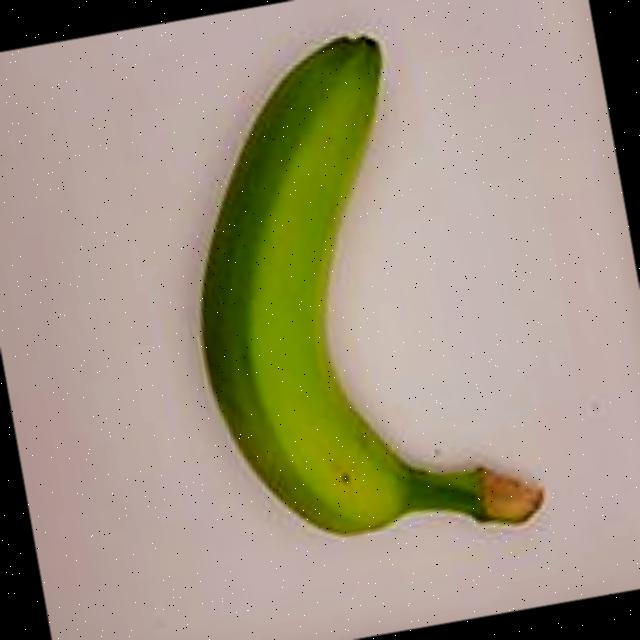Unripe: (130, 0, 604, 625)
